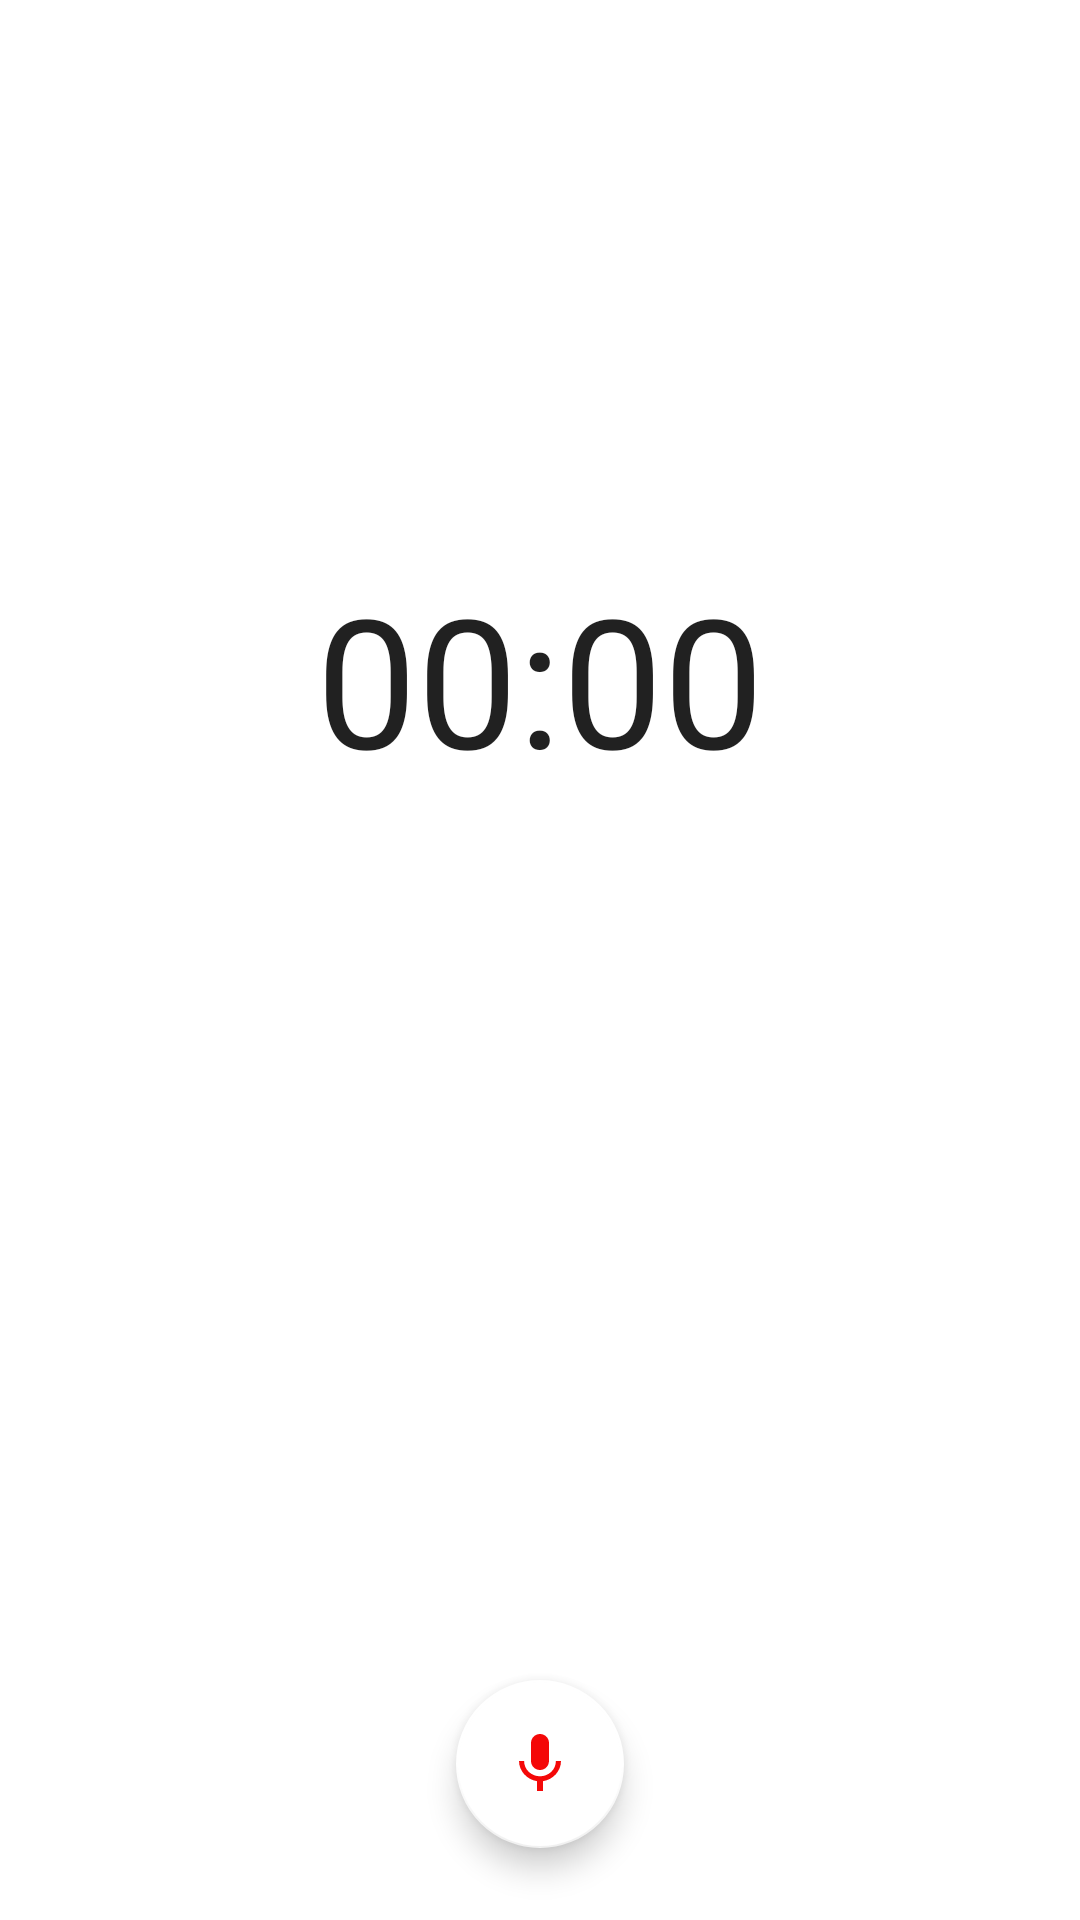

Named icons in this screenshot (1080×1920) and their bounding boxes, (x1,y1,x2,y2):
mic: (457,1734,624,1848)
